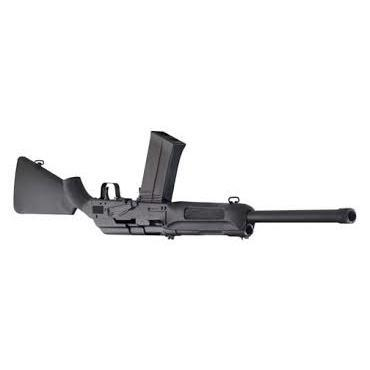larga: (13, 131, 358, 242)
